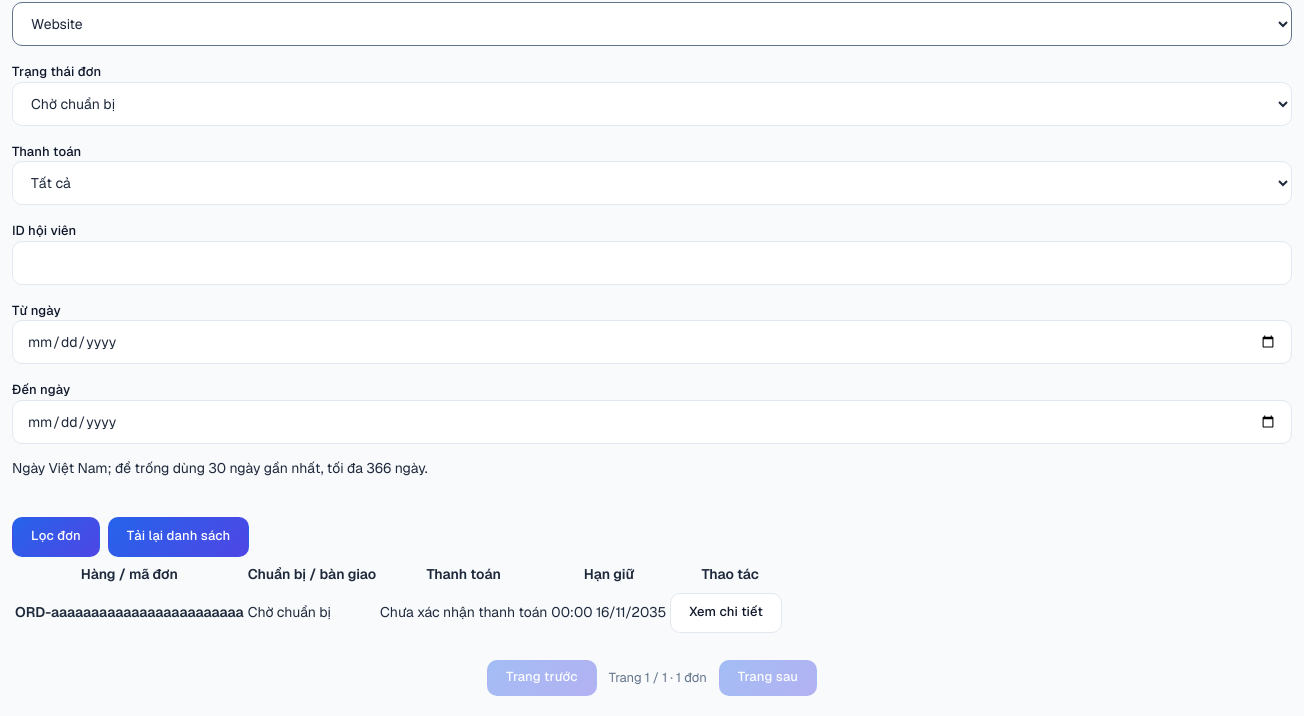
Test case: US-43 TC12: list/detail, command recovery and separate operational/payment states › lost response preserves same key/version, lookup404 remains unresolved, same request replay resolves
(page scrolled)
Click the button "Xem chi tiết" at (726, 613), box [670,593,782,633]
(page scrolled)
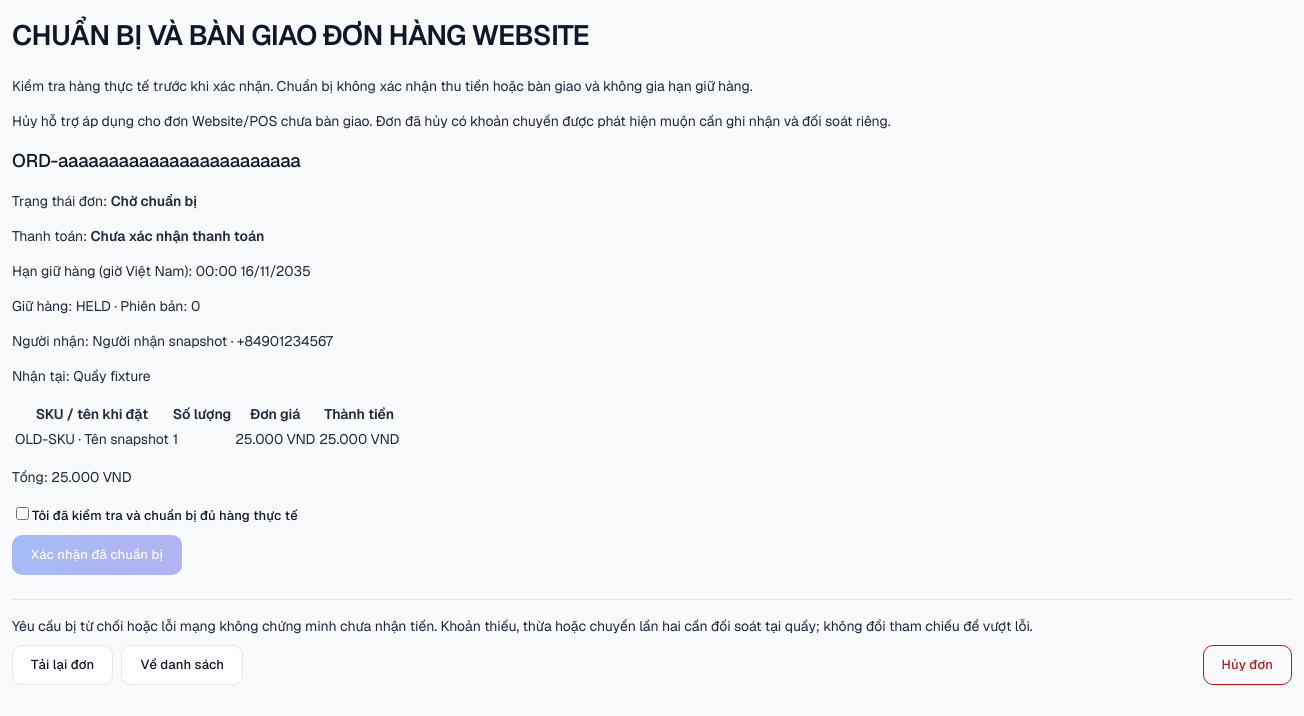
Click the checkbox labelled "Tôi đã kiểm tra và chuẩn bị đủ hàng thực tế" at (22, 513), box [16,507,29,520]
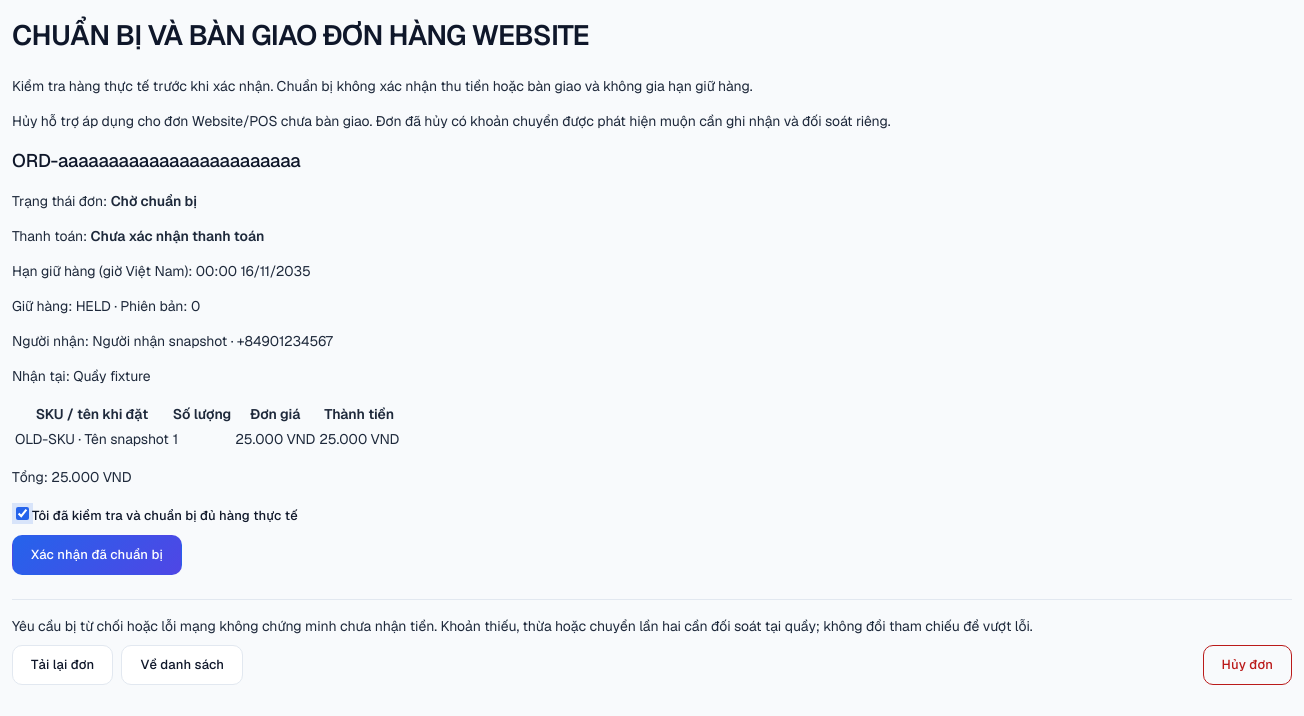
Click the button "Xác nhận đã chuẩn bị" at (97, 555), box [12,535,182,575]
(page scrolled)
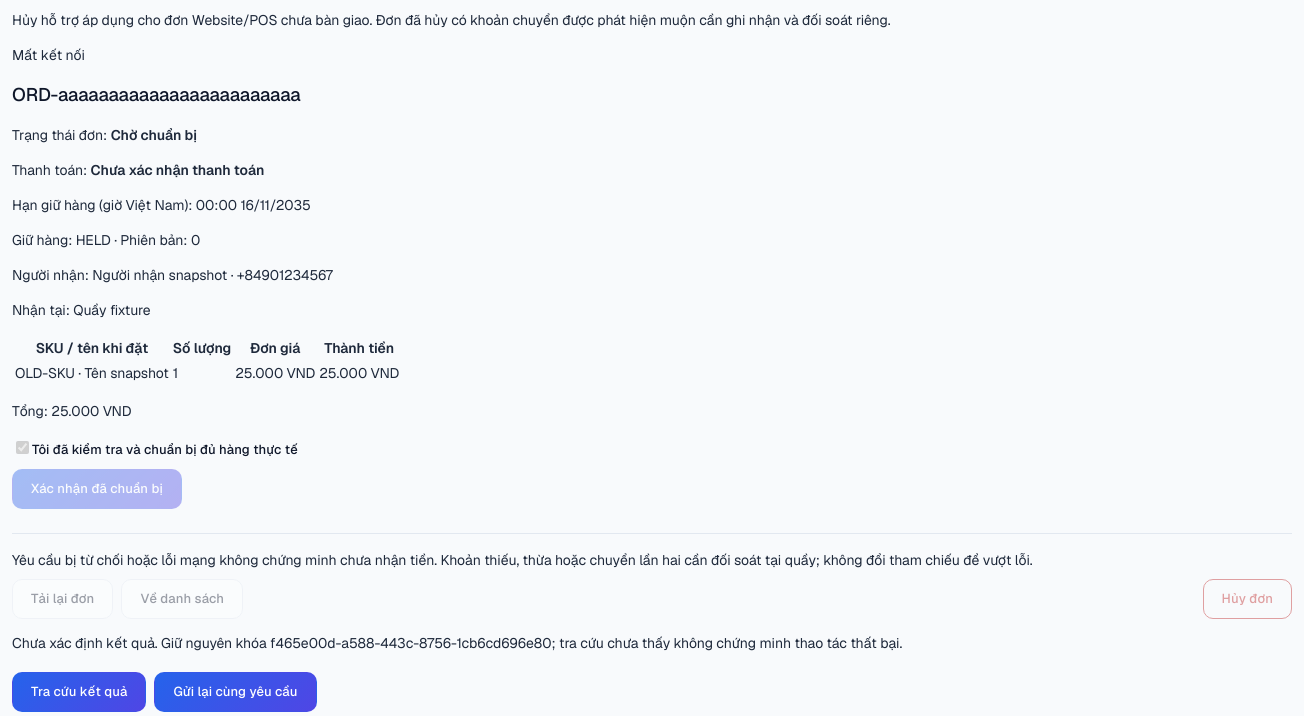
Expected: the text "Mất kết nối" is shown, [12,46,85,64]
Expected: the button "Về danh sách" is disabled, [121,579,243,619]
Click the button "Tra cứu kết quả" at (79, 692), box [12,672,146,712]
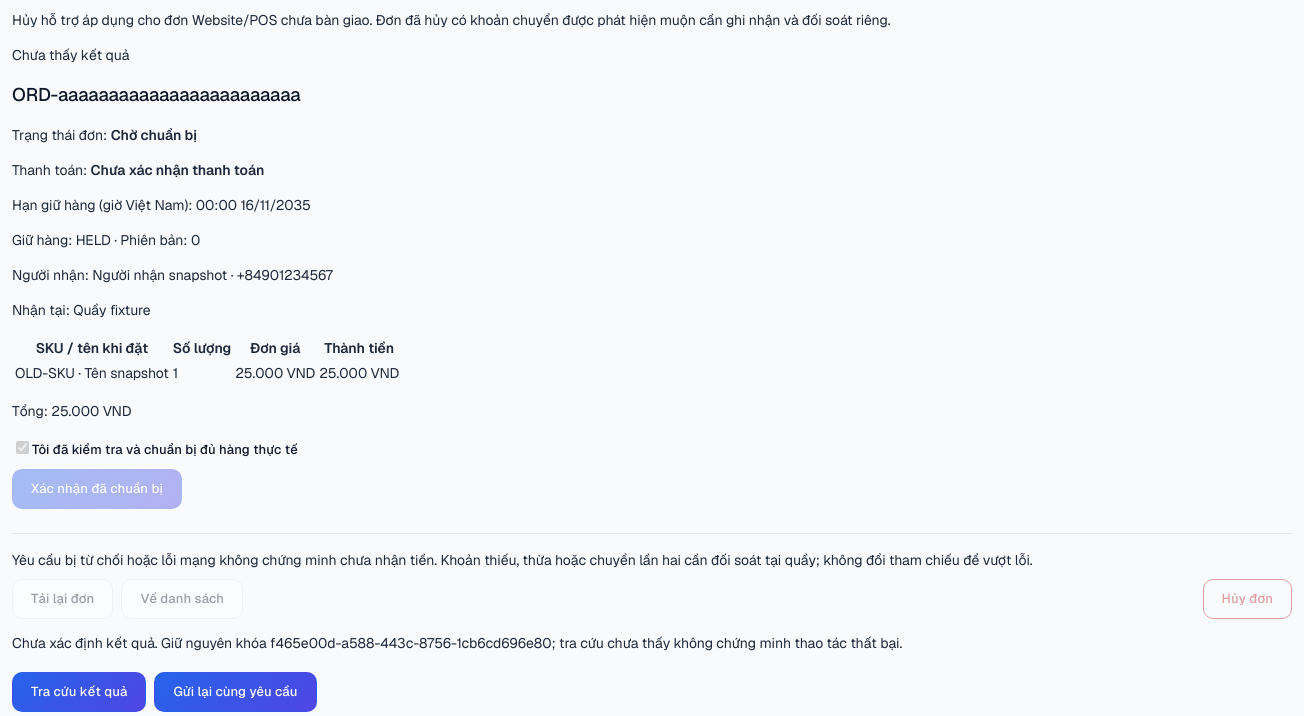
Expected: the text "Chưa thấy kết quả" is shown, [12,46,130,64]
Click the button "Gửi lại cùng yêu cầu" at (236, 692), box [154,672,317,712]
(page scrolled)
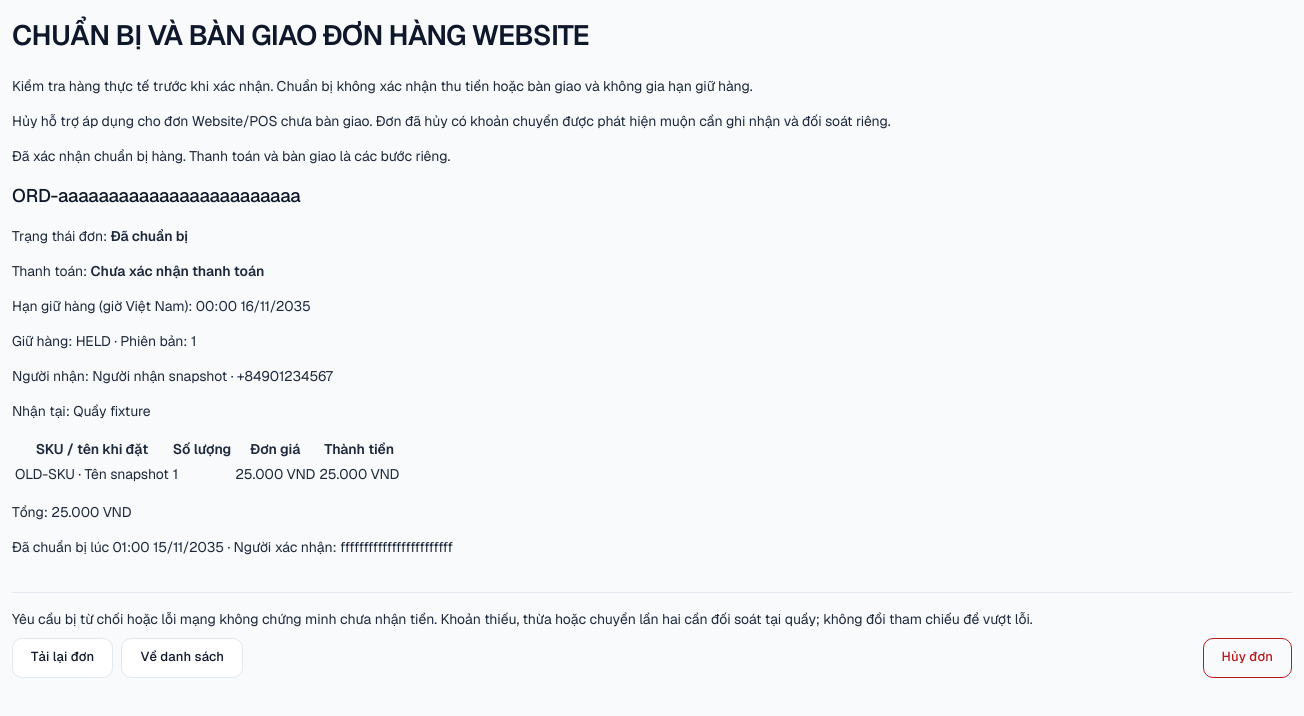
Expected: the text "Đã xác nhận chuẩn bị hàng. Thanh toán và bàn giao là các bước riêng." is shown, [12,147,450,165]
